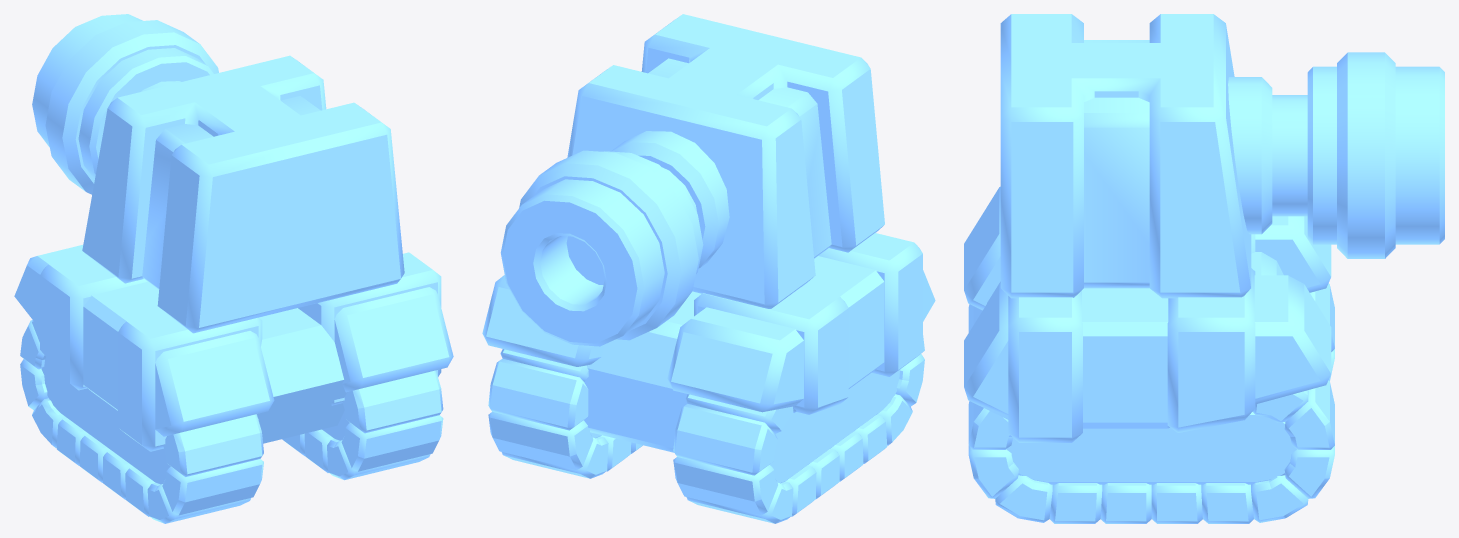
The model's file is Tanks-Blue.fbx.
3 views of the same model, side by side, from view 1: azimuth 30°, elevation 25°; view 2: azimuth 150°, elevation 25°; view 3: azimuth 270°, elevation 25° (orthographic). The views are drawn at different scales.
Visible parts, largest first — view 1: Lv1-Rail-Blue, Lv1-Body-Blue, Lv1-Cannon-Blue; view 2: Lv1-Rail-Blue, Lv1-Body-Blue, Lv1-Cannon-Blue; view 3: Lv1-Rail-Blue, Lv1-Body-Blue, Lv1-Cannon-Blue.
Boxes of the visible parts, x1,y1,x2,y2 form: Lv1-Rail-Blue: [14, 245, 453, 523]; Lv1-Body-Blue: [82, 55, 404, 333]; Lv1-Cannon-Blue: [32, 14, 218, 194]; Lv1-Rail-Blue: [482, 233, 935, 523]; Lv1-Body-Blue: [567, 14, 884, 308]; Lv1-Cannon-Blue: [500, 131, 729, 346]; Lv1-Rail-Blue: [964, 186, 1334, 523]; Lv1-Body-Blue: [1000, 14, 1251, 298]; Lv1-Cannon-Blue: [1228, 52, 1444, 258].
Size of the model in its own units: 1.78 by 2.03 by 2.24.
